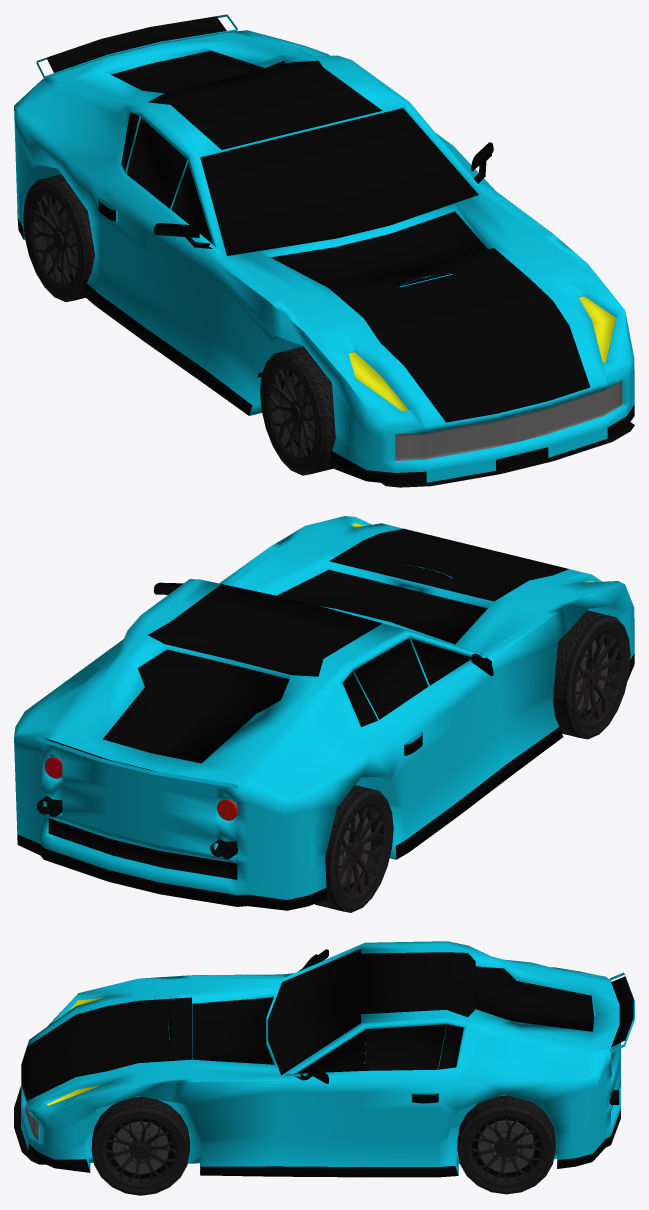
Rendered from Customferrari.glb.
3 renders of one model, top to bottom at view 1: azimuth 30°, elevation 25°; view 2: azimuth 150°, elevation 25°; view 3: azimuth 270°, elevation 25°, orthographic. The views are drawn at different scales.
Visible parts, largest first — view 1: Cube, Lamborghini_Aventador_Wheel_FR, Lamborghini_Aventador_Wheel_FR.001; view 2: Cube, Lamborghini_Aventador_Wheel_FR, Lamborghini_Aventador_Wheel_FR.001; view 3: Cube, Lamborghini_Aventador_Wheel_FR.003, Lamborghini_Aventador_Wheel_FR.002.
Boxes of the visible parts, x1,y1,x2,y2 form: Cube: [14, 14, 634, 487]; Lamborghini_Aventador_Wheel_FR: [260, 346, 335, 475]; Lamborghini_Aventador_Wheel_FR.001: [23, 174, 94, 301]; Cube: [14, 516, 634, 910]; Lamborghini_Aventador_Wheel_FR: [552, 610, 630, 739]; Lamborghini_Aventador_Wheel_FR.001: [315, 785, 393, 912]; Cube: [14, 941, 634, 1177]; Lamborghini_Aventador_Wheel_FR.003: [91, 1096, 189, 1195]; Lamborghini_Aventador_Wheel_FR.002: [457, 1095, 555, 1194].
Size of the model in its own units: 1.56 by 0.8876 by 3.19.
16 materials, 5 textured.
